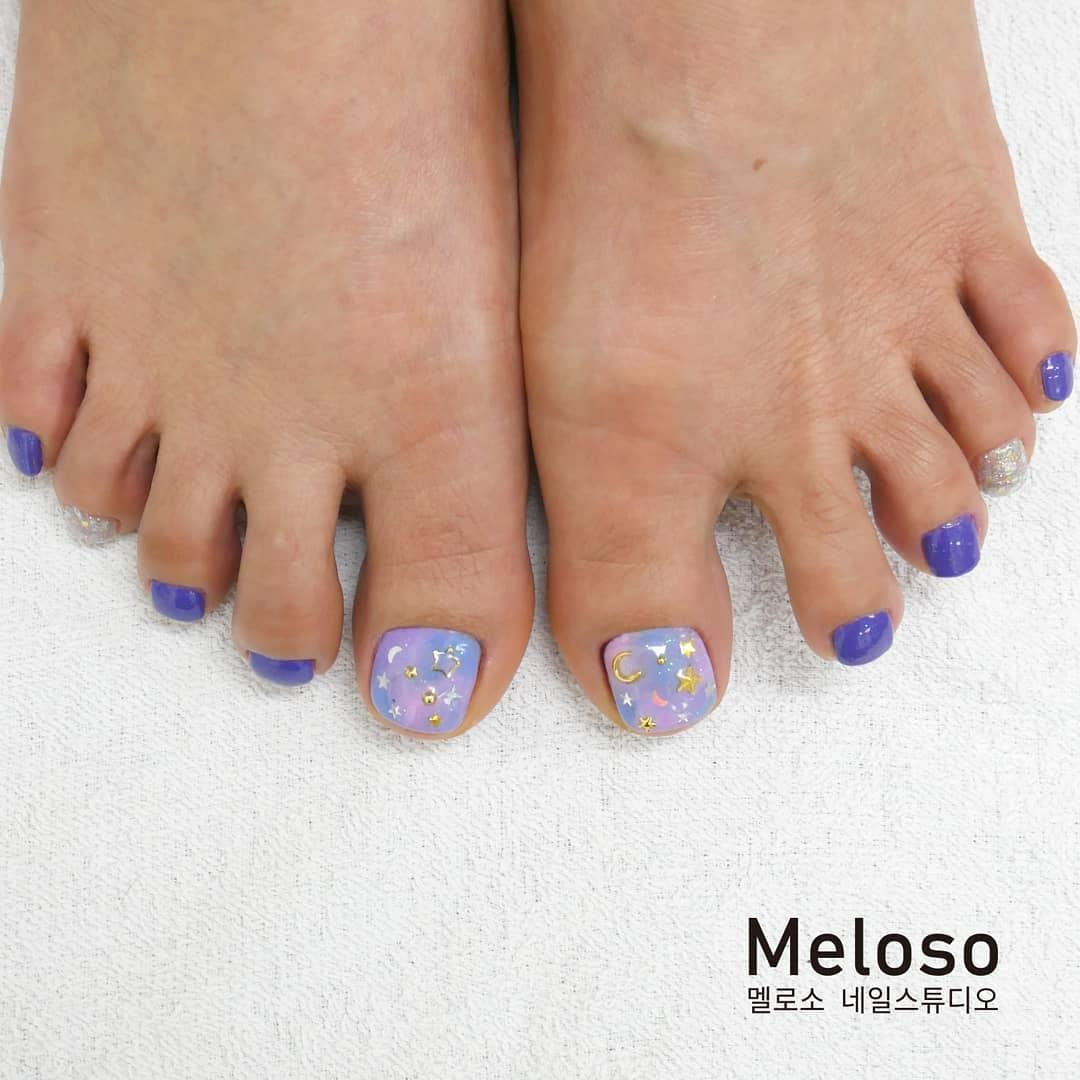nail: (367, 624, 483, 737), (600, 624, 717, 736), (920, 512, 981, 577), (829, 609, 892, 666), (976, 436, 1027, 491), (244, 649, 315, 686), (148, 578, 206, 622), (6, 425, 43, 476), (1039, 350, 1071, 401)
